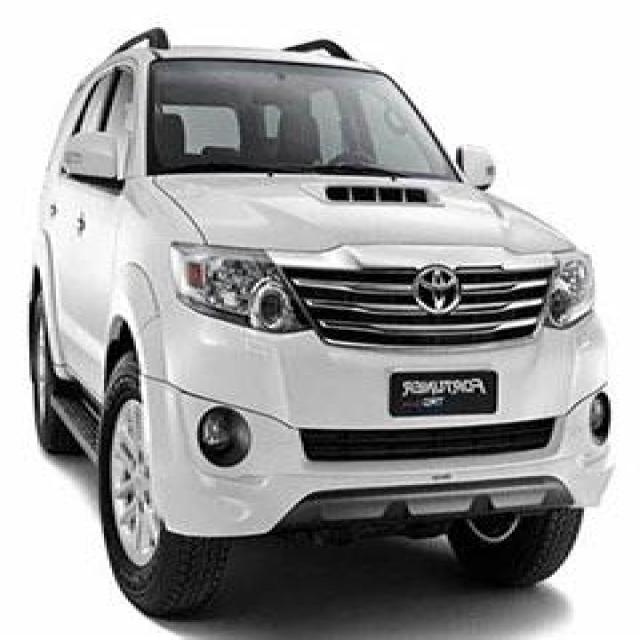car: (0, 4, 640, 624)
